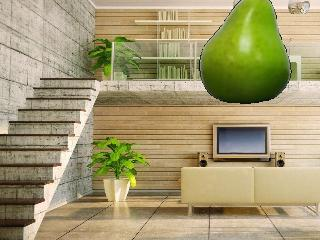pear: (199, 0, 290, 103)
